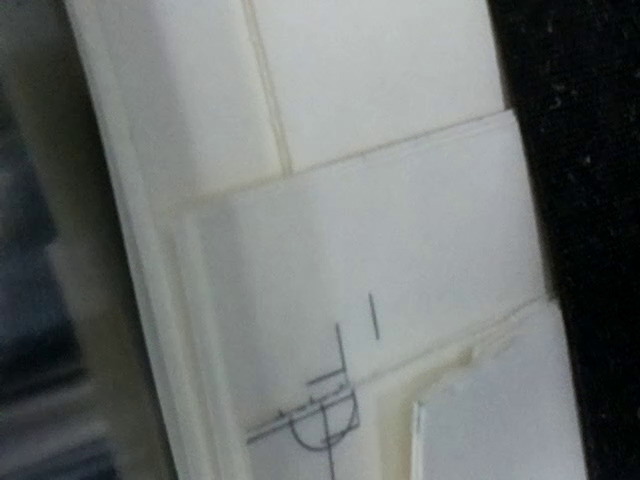misaligned: (245, 322, 366, 457)
